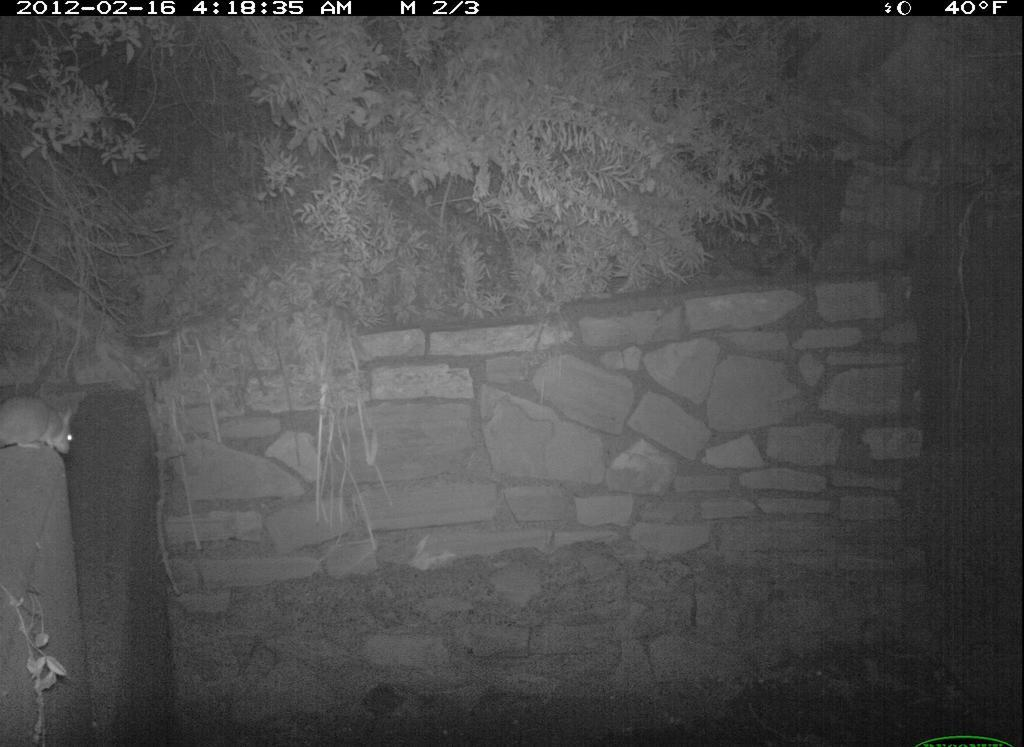rodent: (1, 393, 79, 463)
